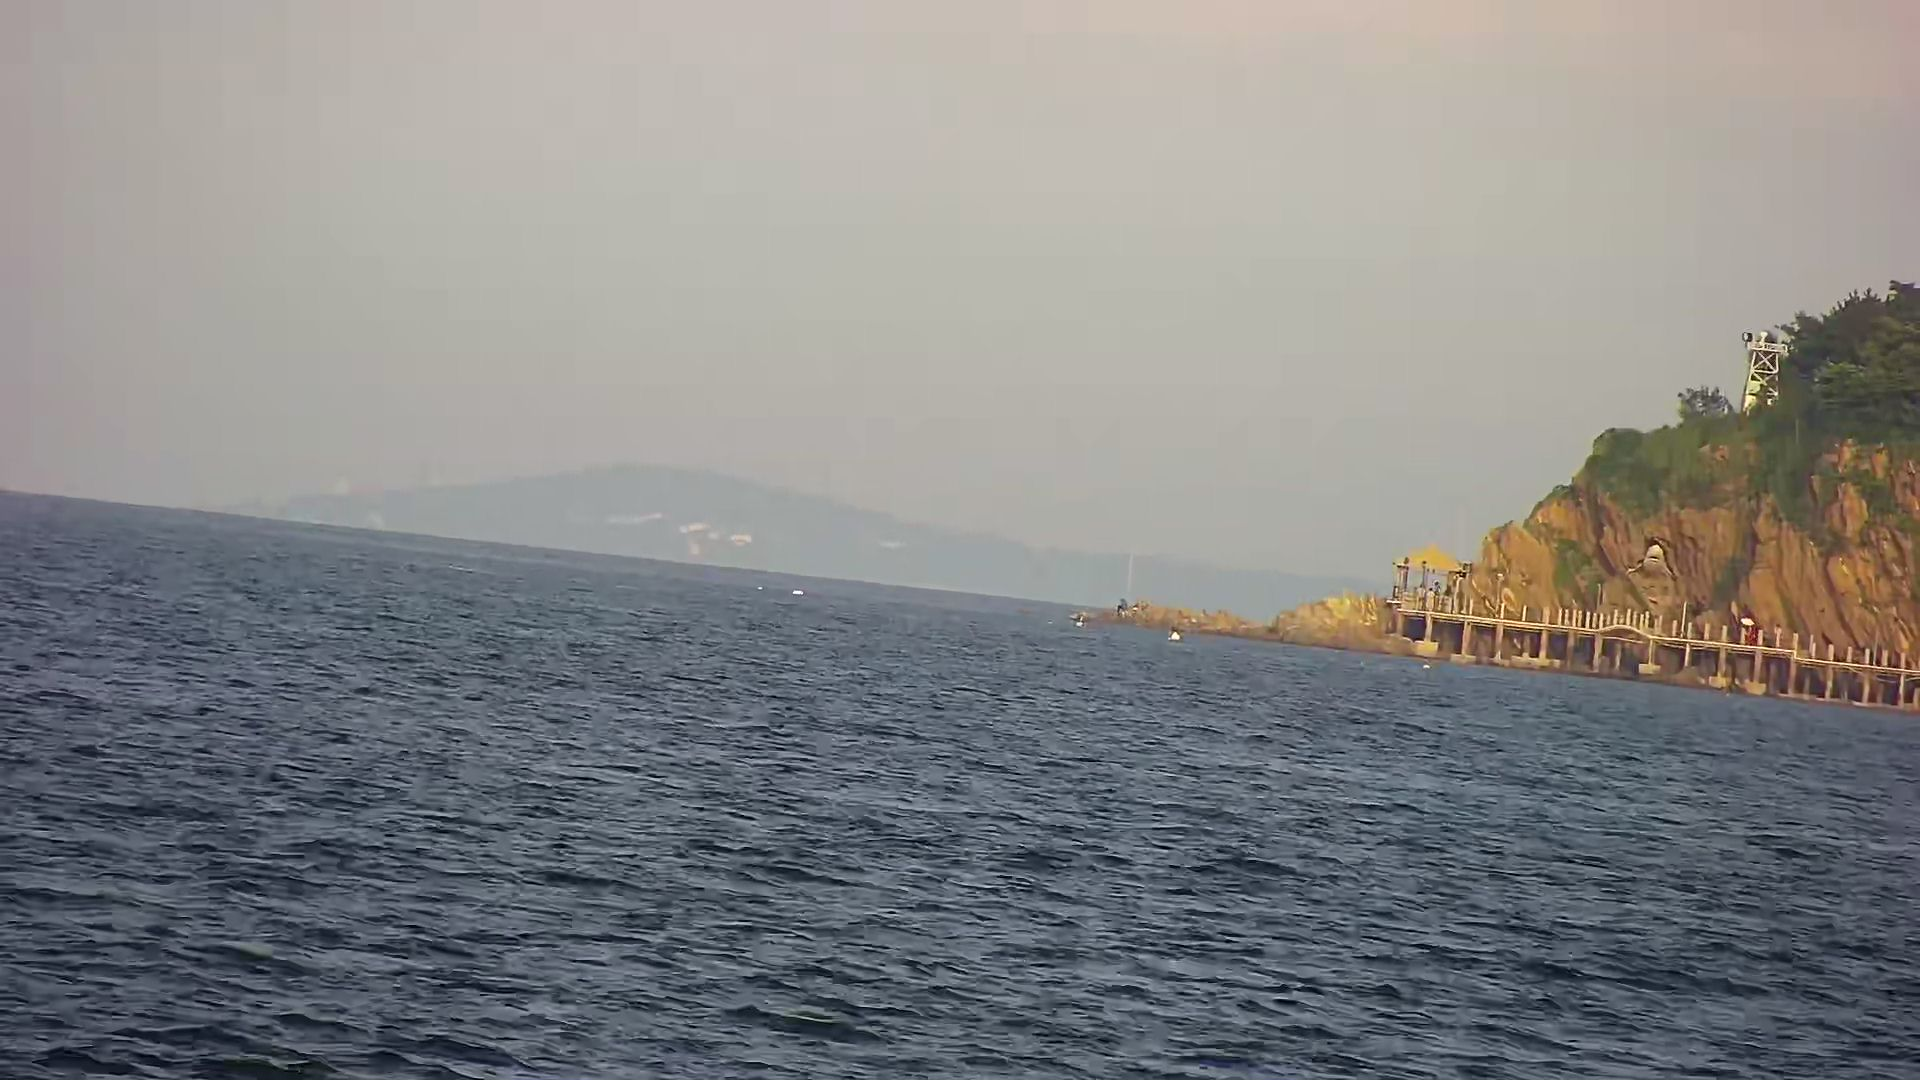bridge: (1385, 555, 1920, 711)
